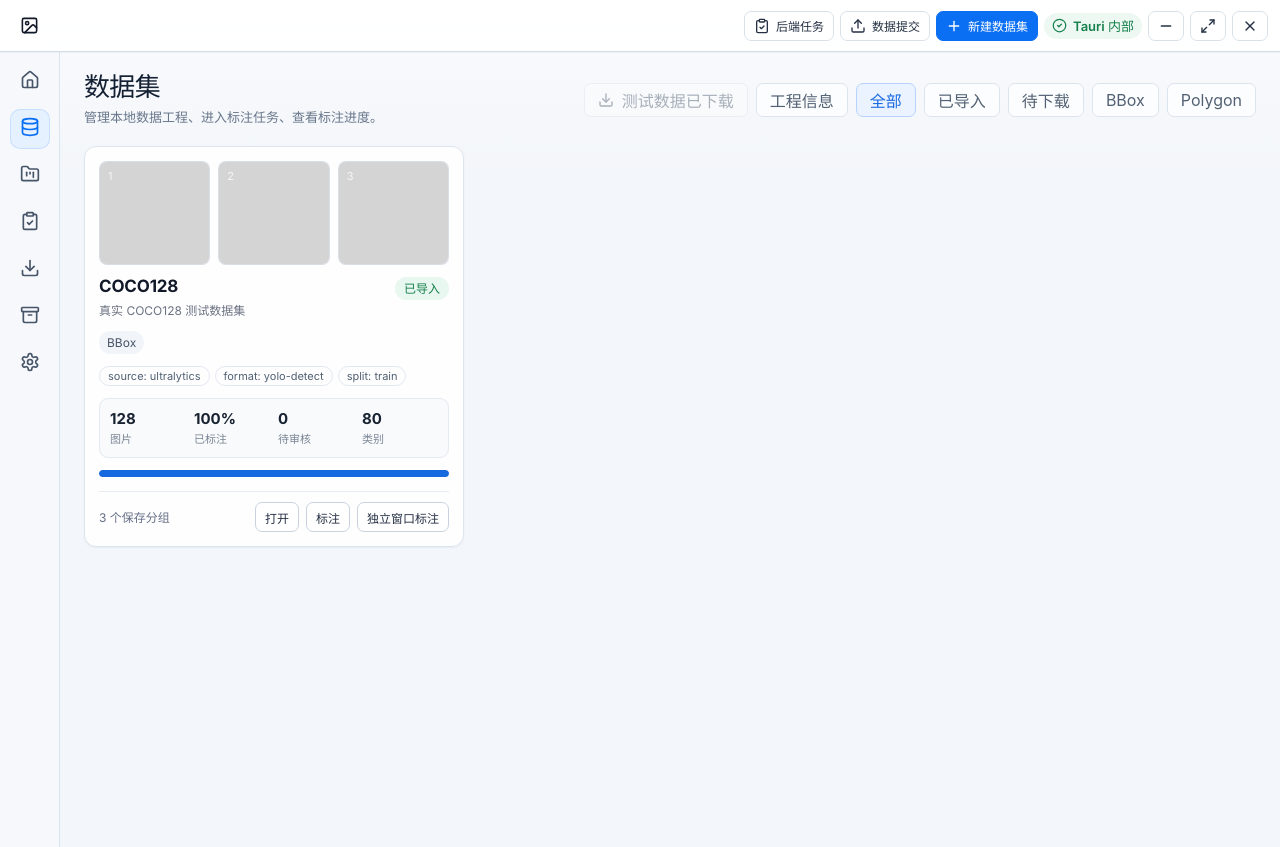
it: desktop shell › 双击数据集卡片可以打开项目详情
Double-click the element named "COCO128 数据集卡片": (274, 347) [84,146,464,547]
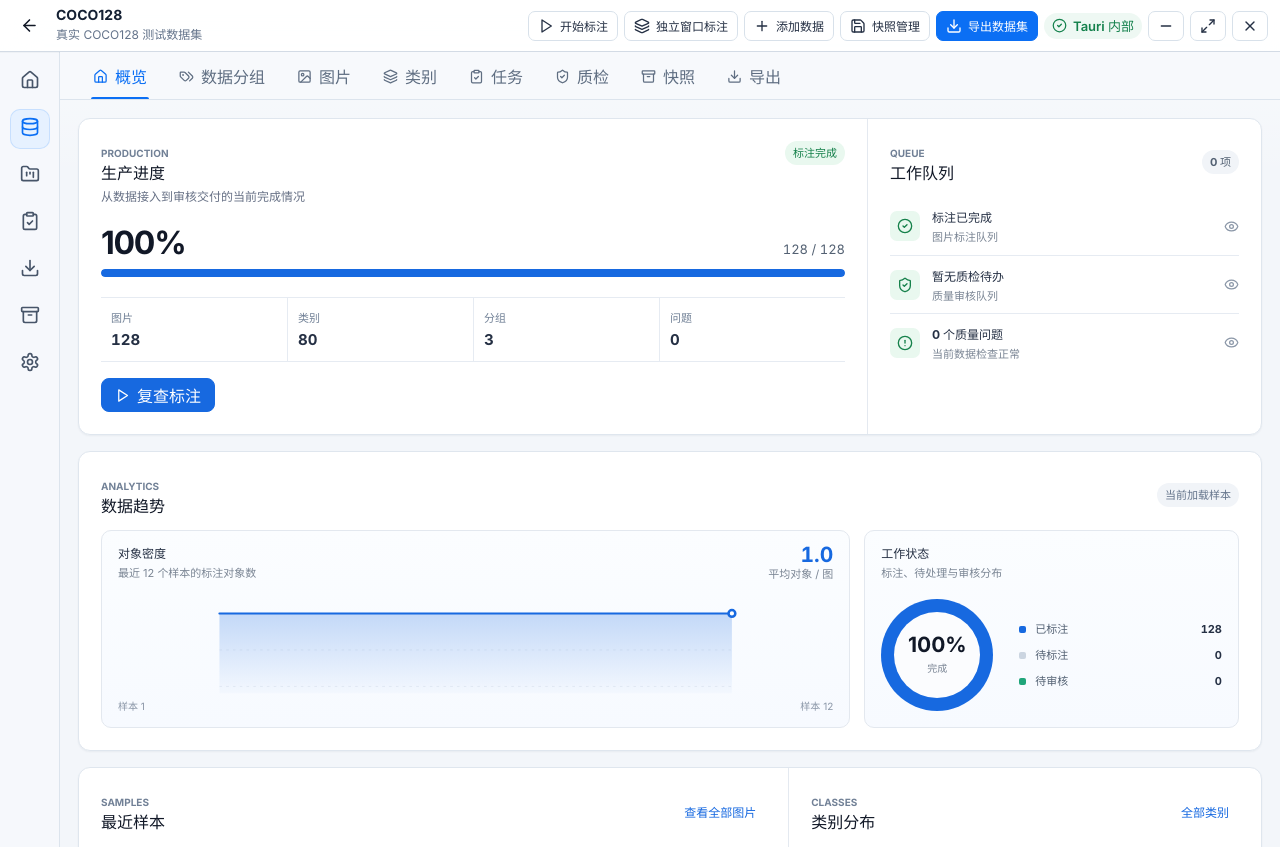
Expected: the text "COCO128" is shown, [56,7,122,24]
Expected: the button "数据分组" is shown, [164,52,280,98]
